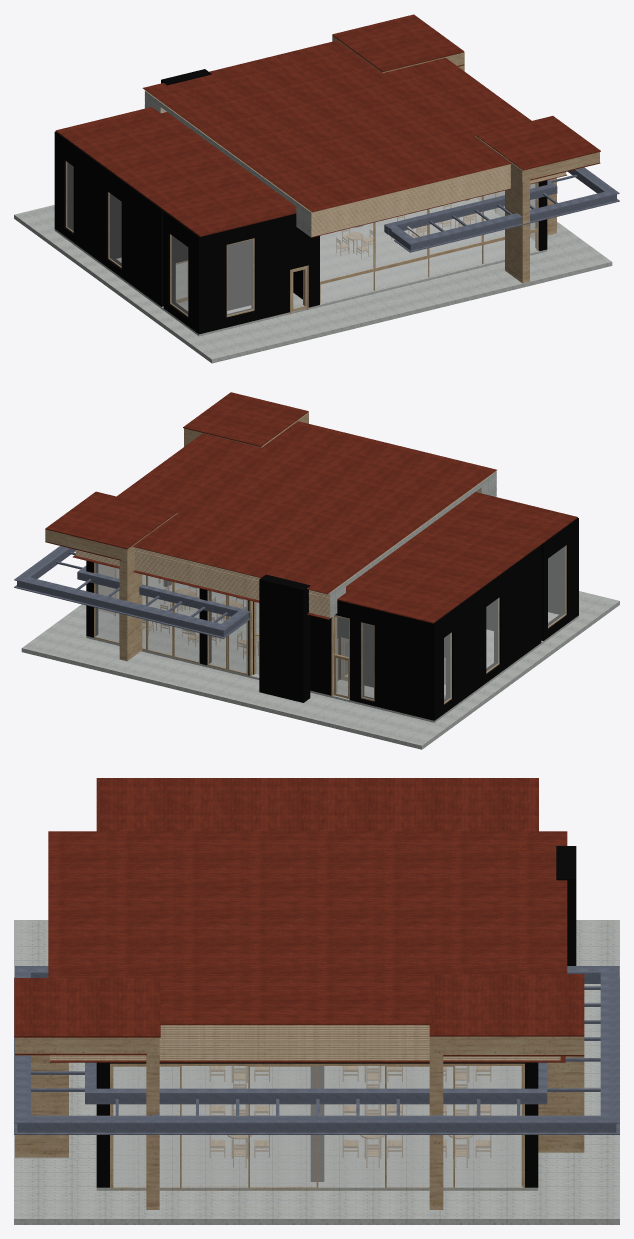
Rendered from Cafe.fbx.
The picture shows the model from 3 angles, top to bottom: view 1: azimuth 30°, elevation 25°; view 2: azimuth 150°, elevation 25°; view 3: azimuth 270°, elevation 25°; orthographic projection. The views are drawn at different scales.
Visible parts, largest first — view 1: Material11; view 2: Material11; view 3: Material11.
Part boxes in pixels (x1,y1,x2,y2): Material11: (14,14,619,363); Material11: (14,392,619,749); Material11: (14,778,619,1224).
Size of the model in its own units: 2155 by 596 by 1810.
Materials: 15 (8 with a texture image).
